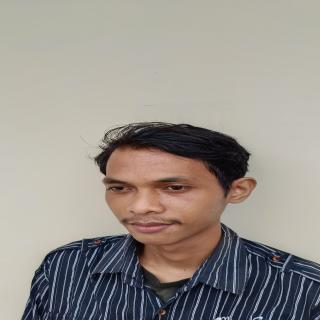Netral: (100, 145, 229, 246)
